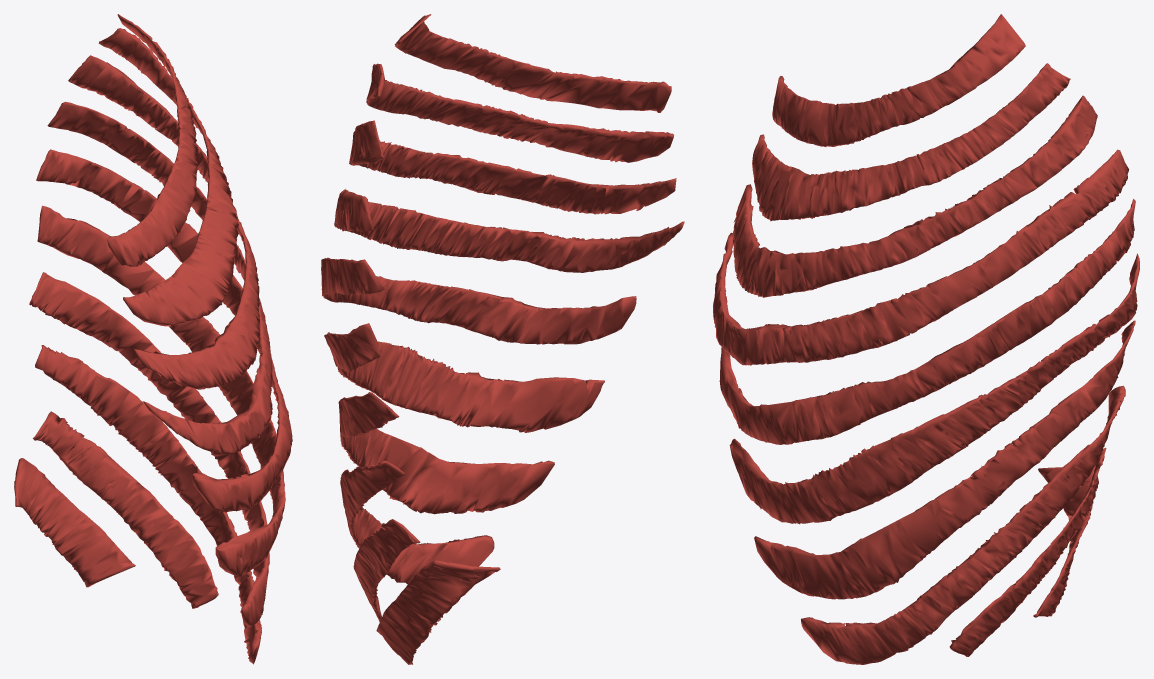
File: musculos-internal-intercostal-muscles-l.glb
3 renders of one model, left to right at view 1: azimuth 30°, elevation 25°; view 2: azimuth 150°, elevation 25°; view 3: azimuth 270°, elevation 25°, orthographic. The views are drawn at different scales.
Visible parts, largest first — view 1: Internal intercostal muscles.l; view 2: Internal intercostal muscles.l; view 3: Internal intercostal muscles.l.
Part boxes in pixels (<box>): Internal intercostal muscles.l: <box>14,14,292,664</box>; Internal intercostal muscles.l: <box>321,14,684,664</box>; Internal intercostal muscles.l: <box>713,14,1139,664</box>.
Bounding box in the file's own units: 0.1256 × 0.33 × 0.2061.
